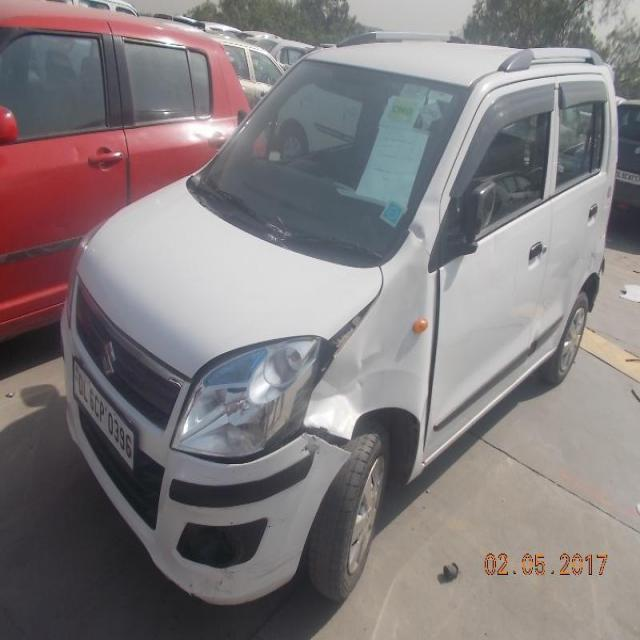damaged: (298, 318, 400, 454)
